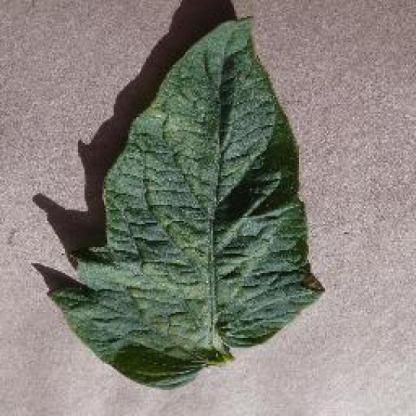Tomato_Spider_Mites: (48, 16, 323, 384)
